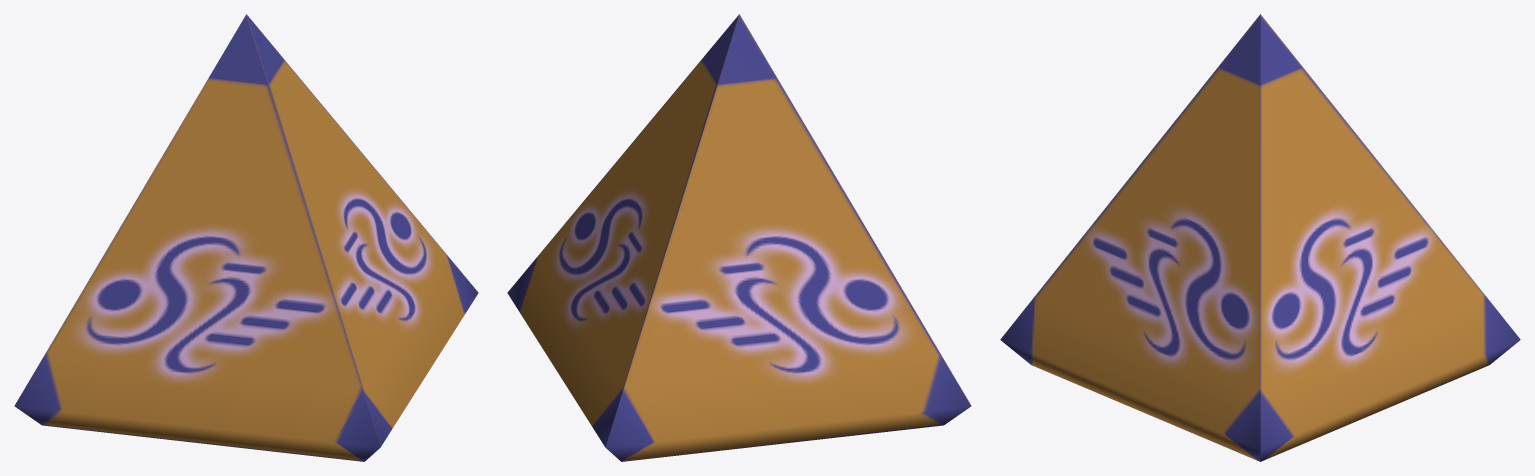
Rendered from pick_up_paars.fbx.
3 views of the same model, side by side, from view 1: azimuth 30°, elevation 25°; view 2: azimuth 150°, elevation 25°; view 3: azimuth 270°, elevation 25° (orthographic). The views are drawn at different scales.
Parts seen in each view (by area): view 1: pPyramid2; view 2: pPyramid2; view 3: pPyramid2.
Boxes of the visible parts, x1,y1,x2,y2 form: pPyramid2: (14,14,478,461); pPyramid2: (507,14,971,461); pPyramid2: (1000,14,1520,461).
Bounding box in the file's own units: 1.41 × 1.05 × 1.41.
